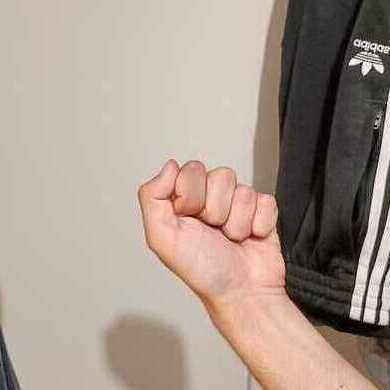A: (136, 157, 291, 296)
